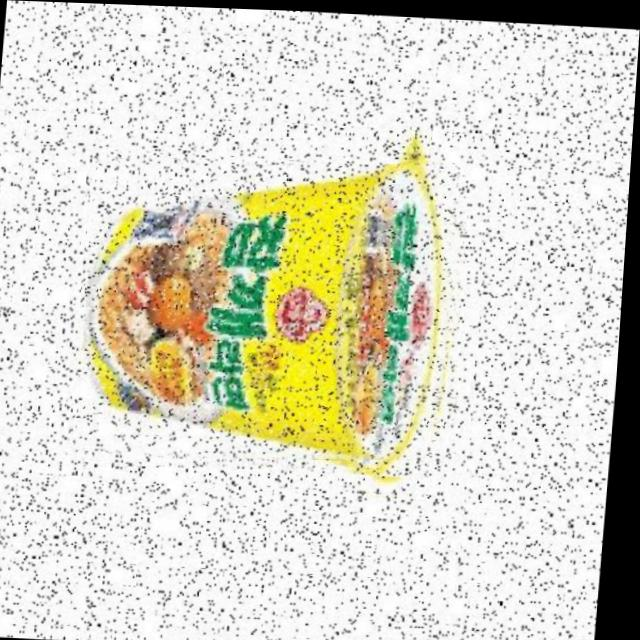Miscellaneous: (71, 148, 476, 477)
